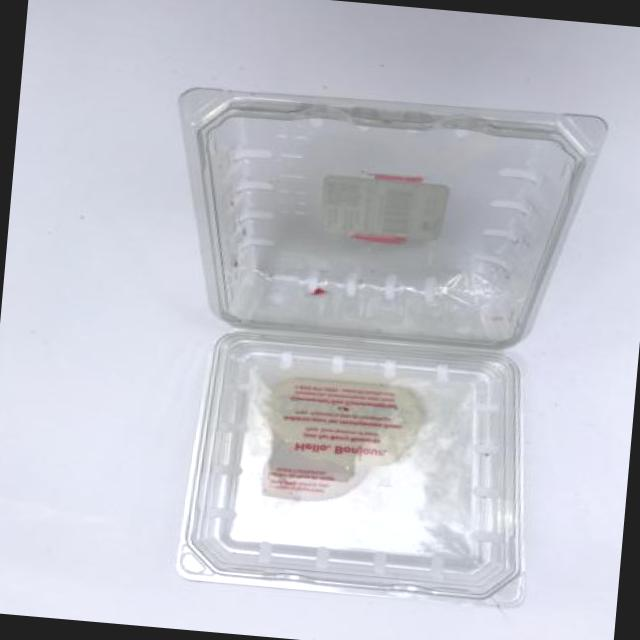plastic: (180, 89, 605, 605), (181, 89, 604, 347), (180, 332, 521, 604)
